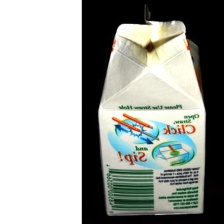carton: (92, 4, 209, 216)
